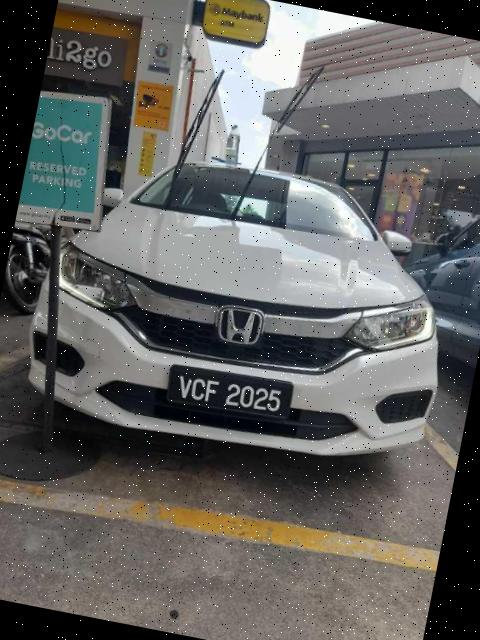License_Plate: (164, 359, 297, 426)
car: (14, 129, 474, 487)
